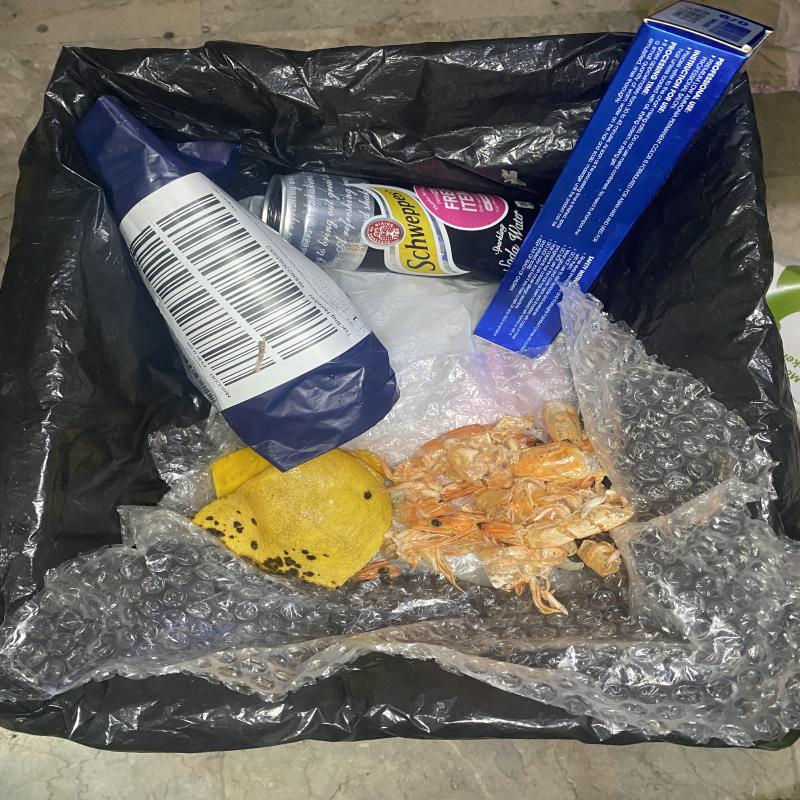aluminum: (261, 172, 544, 284)
cardboard: (474, 1, 773, 360)
fruit peels: (192, 447, 395, 589)
left-over food: (348, 401, 634, 615)
plastic bag: (0, 324, 800, 741), (75, 97, 400, 474)
